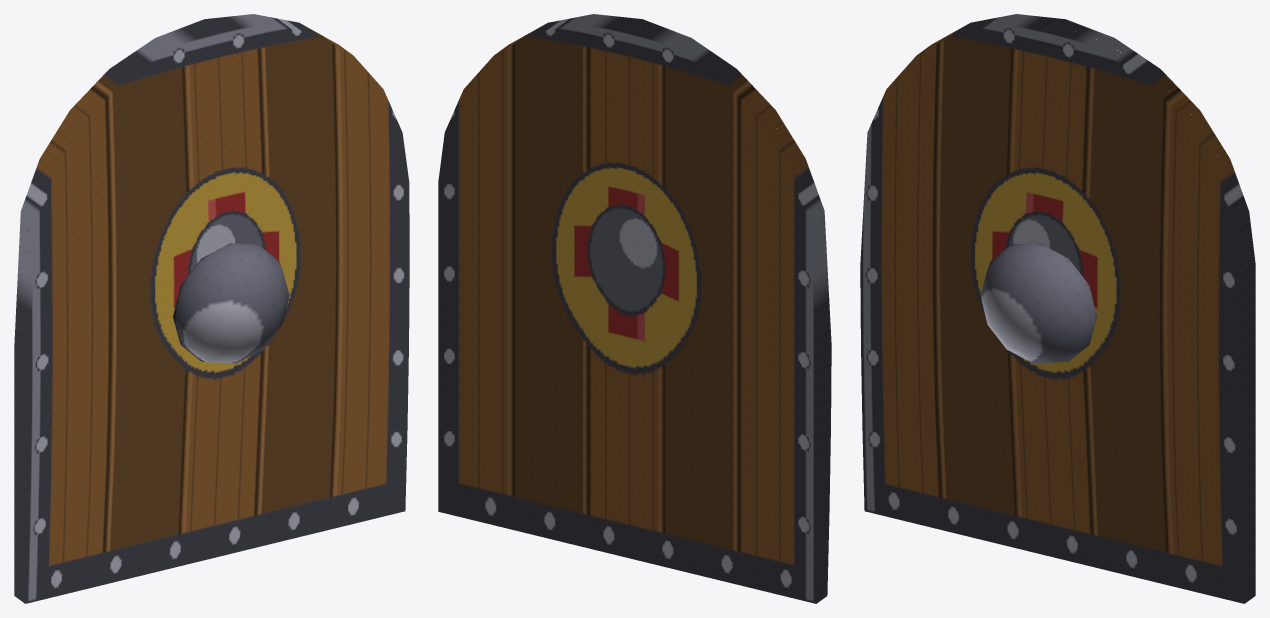
File: shieldbearer_tower_shield.glb
3 renders of one model, left to right at view 1: azimuth 30°, elevation 25°; view 2: azimuth 150°, elevation 25°; view 3: azimuth 330°, elevation 25°, orthographic.
Visible parts, largest first — view 1: shieldbearer_tower_shield; view 2: shieldbearer_tower_shield; view 3: shieldbearer_tower_shield.
Part boxes in pixels (bbox=[...]): shieldbearer_tower_shield: bbox=[14, 14, 409, 603]; shieldbearer_tower_shield: bbox=[438, 14, 831, 603]; shieldbearer_tower_shield: bbox=[860, 14, 1255, 603].
Size of the model in its own units: 1.2 by 1.6 by 0.24.
1 material, 1 textured.
